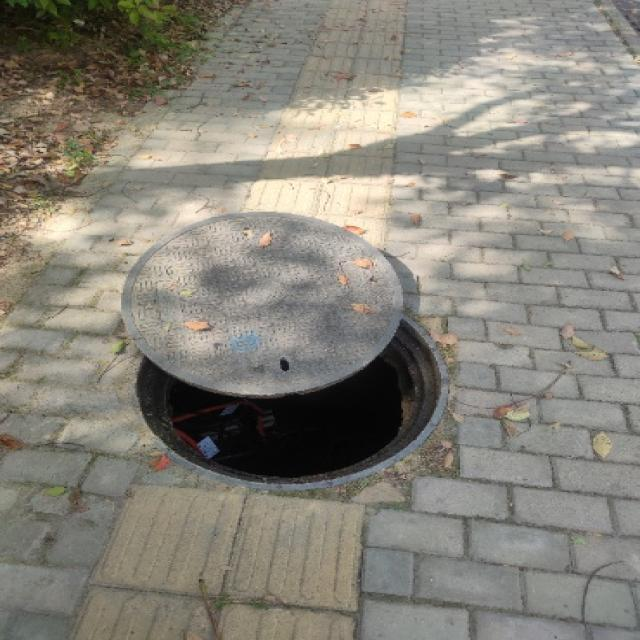Faulty: (92, 198, 482, 520)
